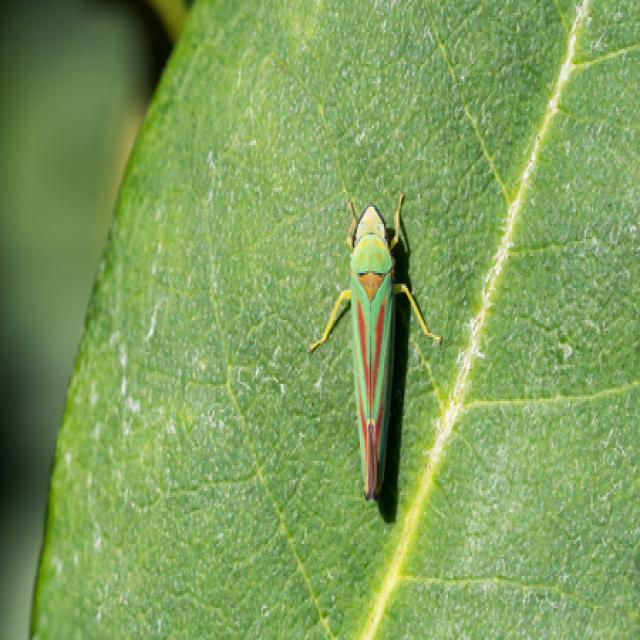Yechan: (330, 182, 446, 509)
